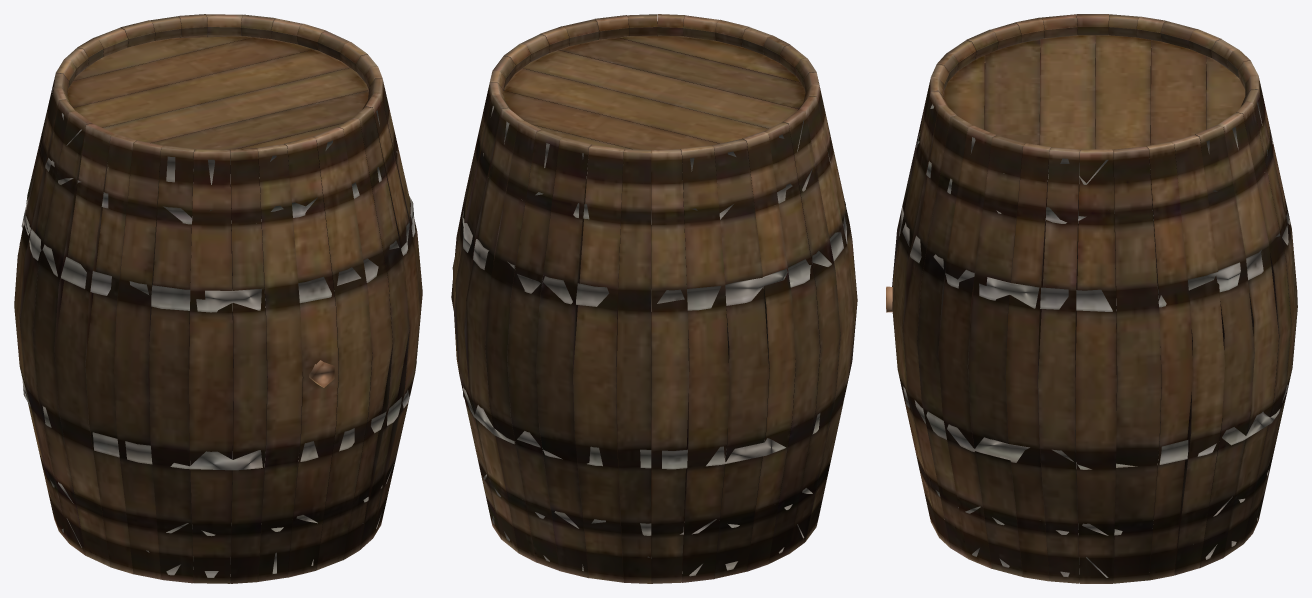
File: barrel_wood.glb
3 renders of one model, left to right at view 1: azimuth 30°, elevation 25°; view 2: azimuth 150°, elevation 25°; view 3: azimuth 270°, elevation 25°, orthographic.
Parts seen in each view (by area): view 1: wine_barrel_01_Lid; view 2: wine_barrel_01_Lid; view 3: wine_barrel_01_Lid.
Boxes of the visible parts, x1=… form: wine_barrel_01_Lid: x1=14, y1=14, x2=422, y2=583; wine_barrel_01_Lid: x1=451, y1=14, x2=857, y2=583; wine_barrel_01_Lid: x1=886, y1=14, x2=1297, y2=583.
Size of the model in its own units: 0.7419 by 0.8695 by 0.7521.
Materials: 1 (1 with a texture image).
